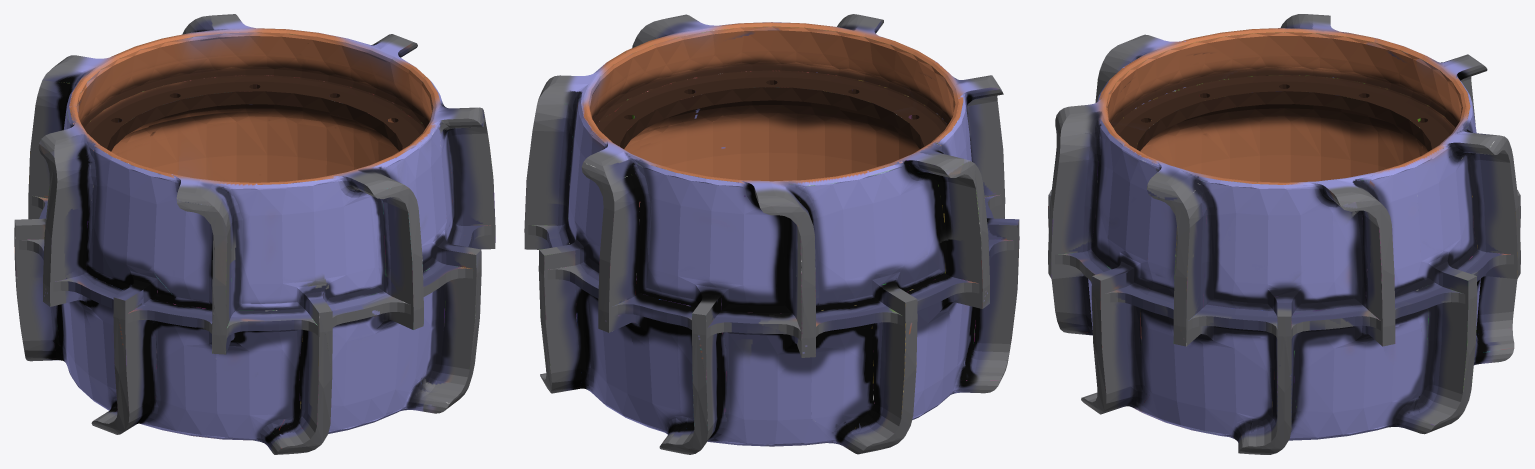
Rendered from wheel_unders.dae.
The picture shows the model from 3 angles, left to right: view 1: azimuth 30°, elevation 25°; view 2: azimuth 150°, elevation 25°; view 3: azimuth 270°, elevation 25°; orthographic projection. The views are drawn at different scales.
Visible parts, largest first — view 1: Elvis_Wheel_Scaled_visual_low; view 2: Elvis_Wheel_Scaled_visual_low; view 3: Elvis_Wheel_Scaled_visual_low.
Part boxes in pixels (x1,y1,x2,y2): Elvis_Wheel_Scaled_visual_low: (14,14,495,454); Elvis_Wheel_Scaled_visual_low: (524,14,1019,454); Elvis_Wheel_Scaled_visual_low: (1048,14,1520,454).
Size of the model in its own units: 0.2 by 0.1962 by 0.1176.
Materials: 1 (1 with a texture image).
